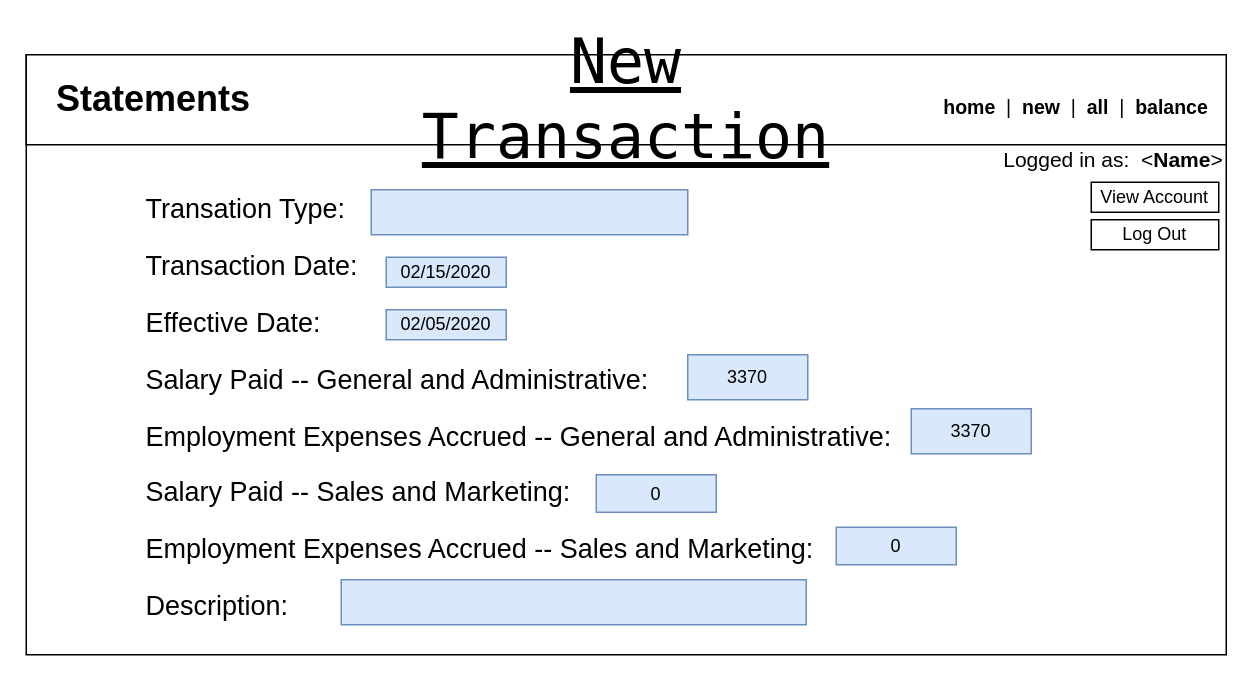
Image size: 1253x681. Some labels were removed from this diagram. Here are the shapes that lost their labels. From the top down, the centre of each, then its label:
pixel 529 211: Salary and Equipment Expenses
pixel 573 601: "Some description text.."
